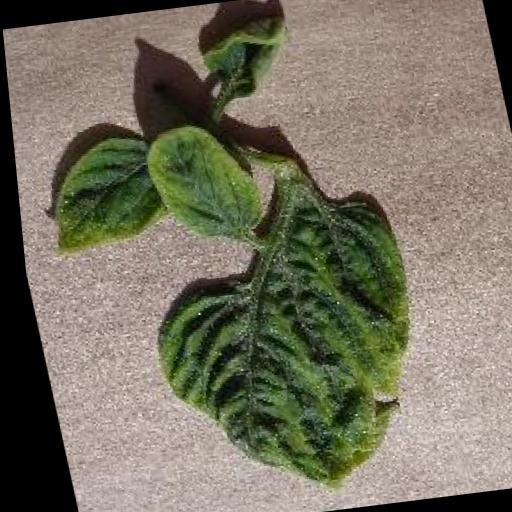Yellow Leaf Curl Virus: (121, 190, 445, 504), (133, 115, 265, 245), (30, 130, 166, 256)
